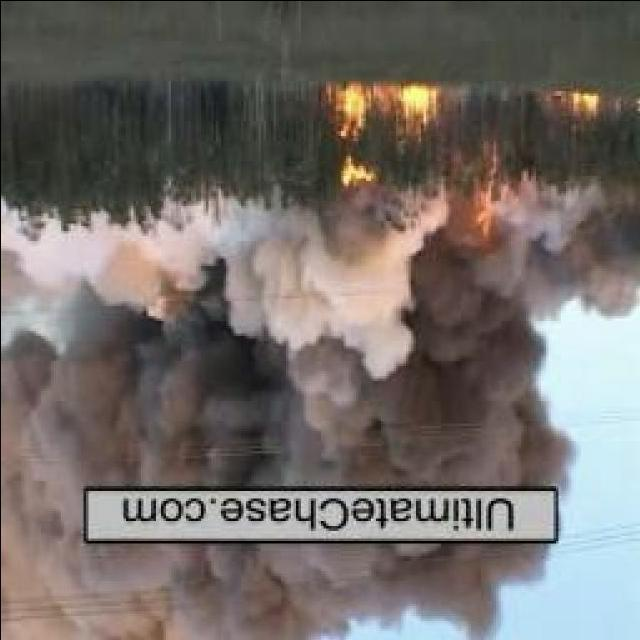Fire: (329, 80, 436, 190), (542, 90, 602, 126), (468, 158, 493, 241)
